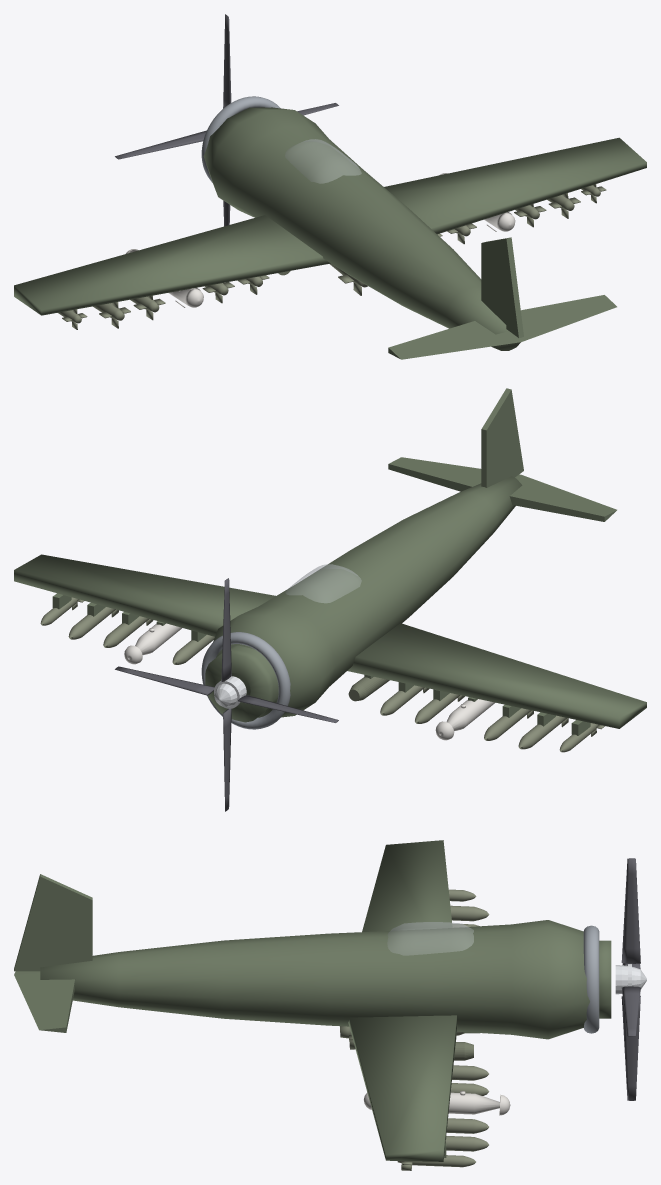
Rendered from a1_skyraider.glb.
3 renders of one model, top to bottom at view 1: azimuth 30°, elevation 25°; view 2: azimuth 150°, elevation 25°; view 3: azimuth 270°, elevation 25°, orthographic. The views are drawn at different scales.
Visible parts, largest first — view 1: A1_Skyraider_Body, A1_Propeller, Ord_R4_Napalm; view 2: A1_Skyraider_Body, A1_Propeller, Ord_R4_Napalm, Ord_L4_Napalm, Ord_R6_Mk82, Ord_L6_Mk82, Ord_R5_Mk82, Ord_L5_Mk82, Ord_R3_Mk82; view 3: A1_Skyraider_Body, A1_Propeller, Ord_L4_Napalm, Ord_L7_Mk81, Ord_L6_Mk82, Ord_L5_Mk82, Ord_R6_Mk82, Ord_L2_Mk82.
Part boxes in pixels (x1=…): A1_Skyraider_Body: x1=14, y1=96, x2=646, y2=359; A1_Propeller: x1=115, y1=14, x2=338, y2=226; Ord_R4_Napalm: x1=126, y1=249, x2=203, y2=307; A1_Skyraider_Body: x1=14, y1=388, x2=646, y2=735; A1_Propeller: x1=115, y1=578, x2=338, y2=811; Ord_R4_Napalm: x1=435, y1=699, x2=495, y2=740; Ord_L4_Napalm: x1=124, y1=623, x2=181, y2=664; Ord_R6_Mk82: x1=518, y1=715, x2=568, y2=749; Ord_L6_Mk82: x1=68, y1=607, x2=118, y2=639; Ord_R5_Mk82: x1=484, y1=708, x2=533, y2=740; Ord_L5_Mk82: x1=103, y1=616, x2=153, y2=647; Ord_R3_Mk82: x1=415, y1=693, x2=464, y2=723; A1_Skyraider_Body: x1=14, y1=840, x2=611, y2=1161; A1_Propeller: x1=615, y1=858, x2=646, y2=1100; Ord_L4_Napalm: x1=363, y1=1091, x2=510, y2=1115; Ord_L7_Mk81: x1=397, y1=1155, x2=475, y2=1170; Ord_L6_Mk82: x1=445, y1=1136, x2=488, y2=1151; Ord_L5_Mk82: x1=446, y1=1118, x2=488, y2=1133; Ord_R6_Mk82: x1=450, y1=905, x2=489, y2=921; Ord_L2_Mk82: x1=452, y1=1065, x2=488, y2=1080.
Bounding box in the file's own units: 14 × 5.1 × 12.08.
